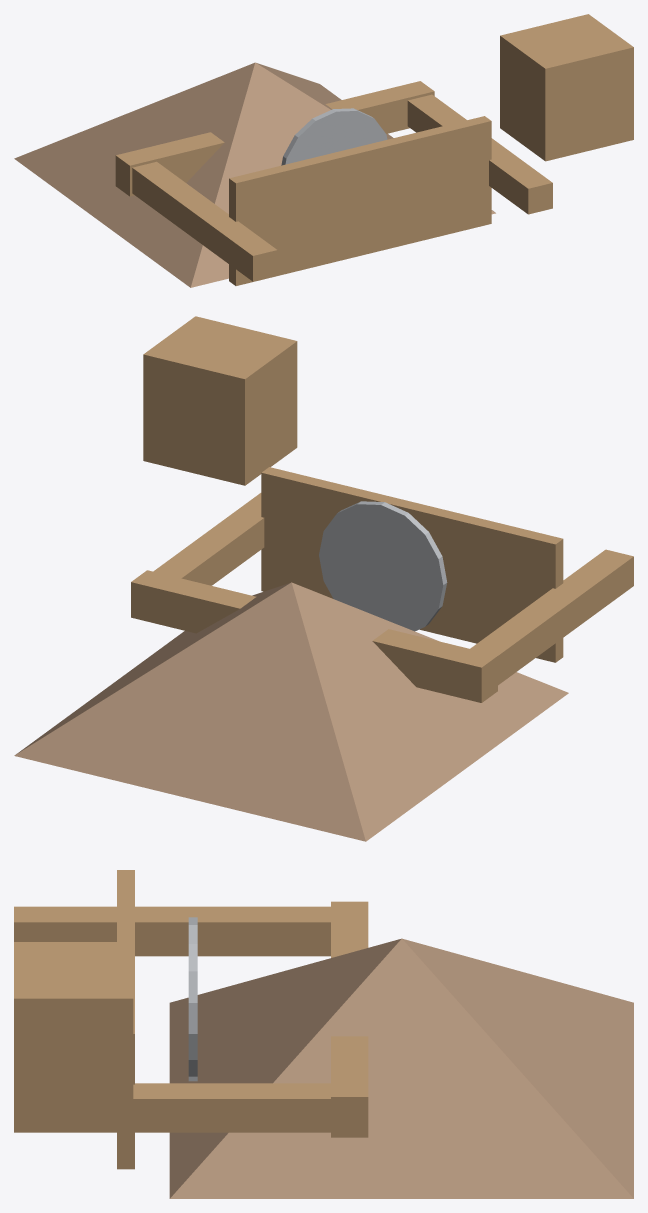
File: sawmill.fbx
The picture shows the model from 3 angles, top to bottom: view 1: azimuth 30°, elevation 25°; view 2: azimuth 150°, elevation 25°; view 3: azimuth 270°, elevation 25°; orthographic projection. The views are drawn at different scales.
Parts seen in each view (by area): view 1: Table, Roof, Bin, FrameL, Beam, FrameR, Blade; view 2: Roof, Table, Bin, Blade, Beam, FrameL, FrameR; view 3: Roof, Bin, FrameL, FrameR, Beam, Table, Blade.
Boxes of the visible parts, x1,y1,x2,y2 form: Table: (229,116,491,285); Roof: (14,62,495,287); Bin: (500,14,633,161); FrameL: (132,161,277,281); Beam: (115,81,434,196); FrameR: (407,94,552,214); Blade: (281,108,387,165); Roof: (14,582,568,841); Table: (261,467,563,662); Bin: (143,316,297,485); Blade: (319,501,447,631); Beam: (131,570,497,702); FrameL: (470,549,633,685); FrameR: (153,493,264,585); Roof: (169,938,633,1198); Bin: (14,942,133,1120); FrameL: (14,906,330,956); FrameR: (14,1083,330,1132); Beam: (331,901,368,1137); Table: (117,870,134,1169); Blade: (188,917,197,1081).
Bounding box in the file's own units: 391 × 185 × 416.
